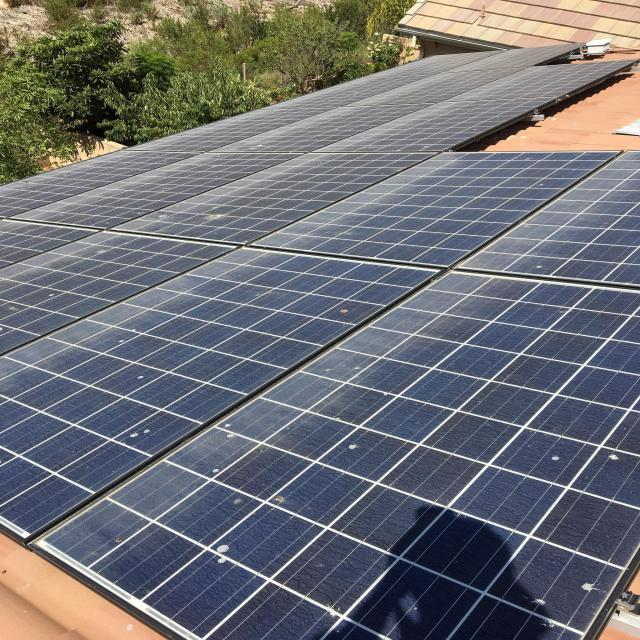dust-solar-panel: (0, 45, 638, 640)
